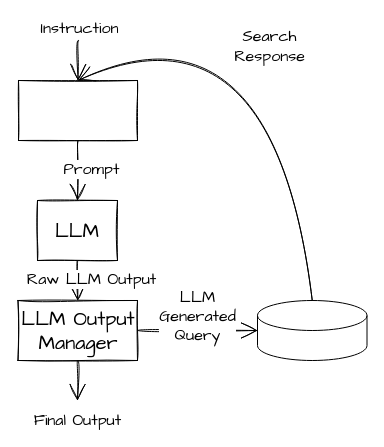
This 384x447 diagram has some shape labels left out. The shapes that lost their labels are listed below. From the top down, each one's centre as x and y in pixels, then its label:
At point (78, 110): "Prompt Manager".
At point (311, 330): "Search API".
